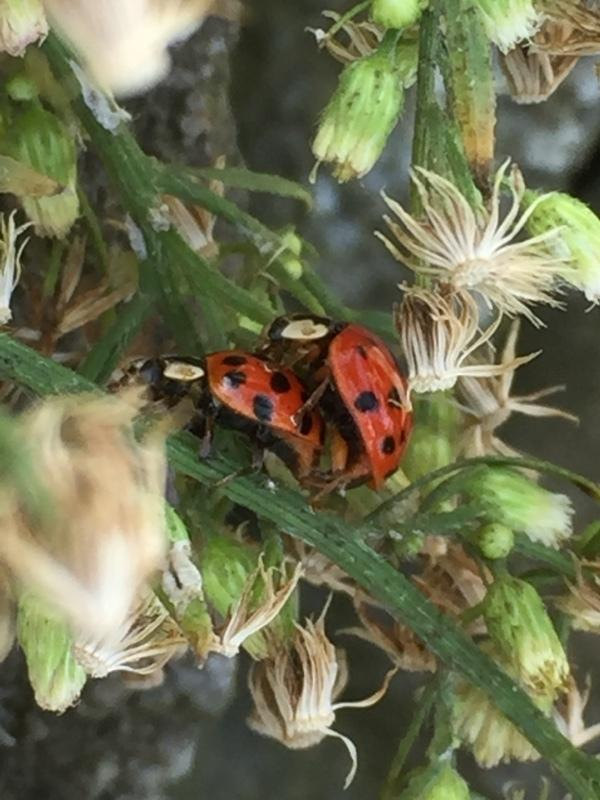ladybug: (255, 308, 420, 509), (122, 344, 334, 495)
